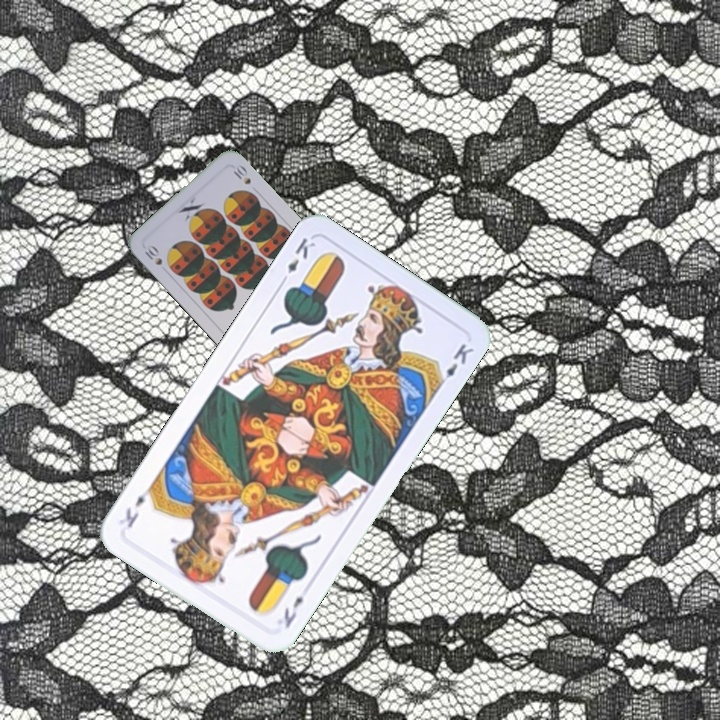EK: (276, 233, 318, 288), (279, 592, 307, 631)
S10: (140, 240, 165, 268)
